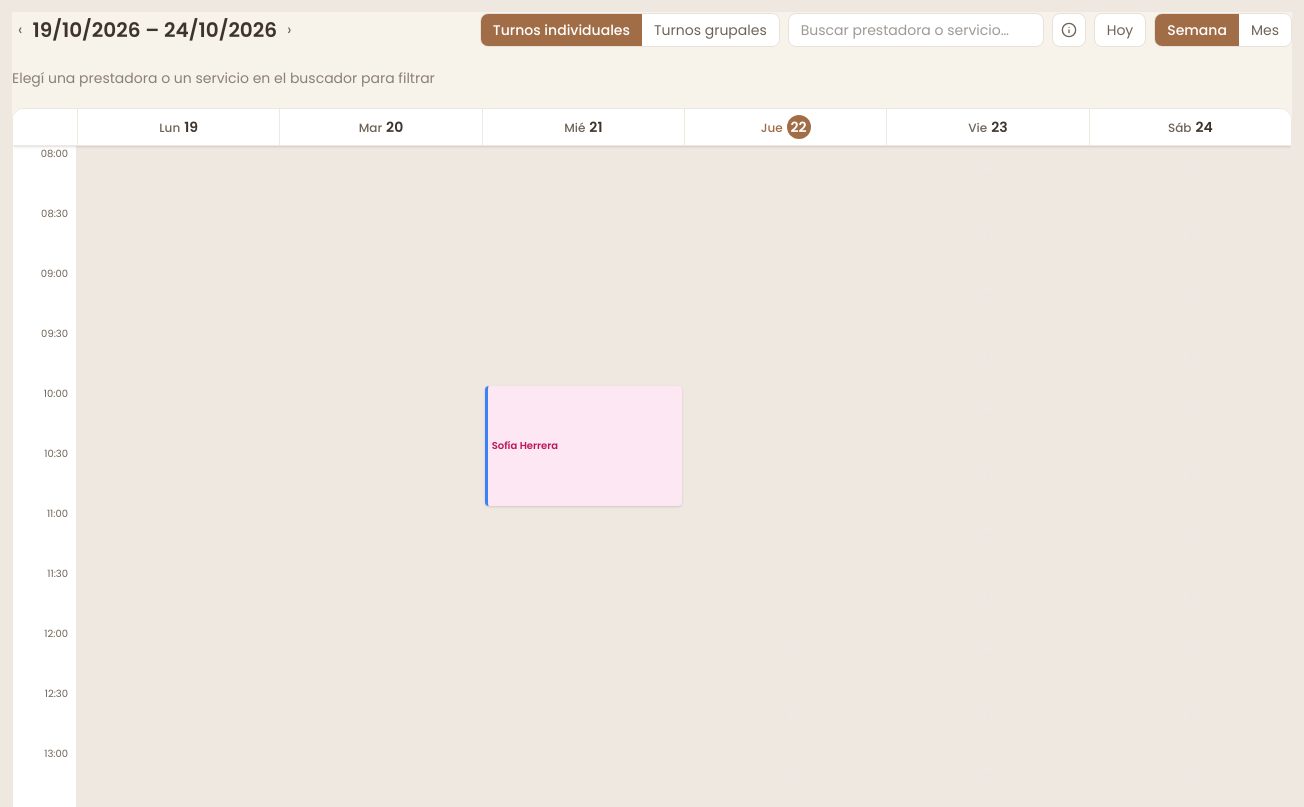
Scenario: WeekViewPage — pastillas finas › al pasar el mouse muestra la ficha con prestadora, clienta y servicio
The image size is (1304, 807).
Hover over the button "Sofía Herrera": x=583, y=446 [485,386,682,506]
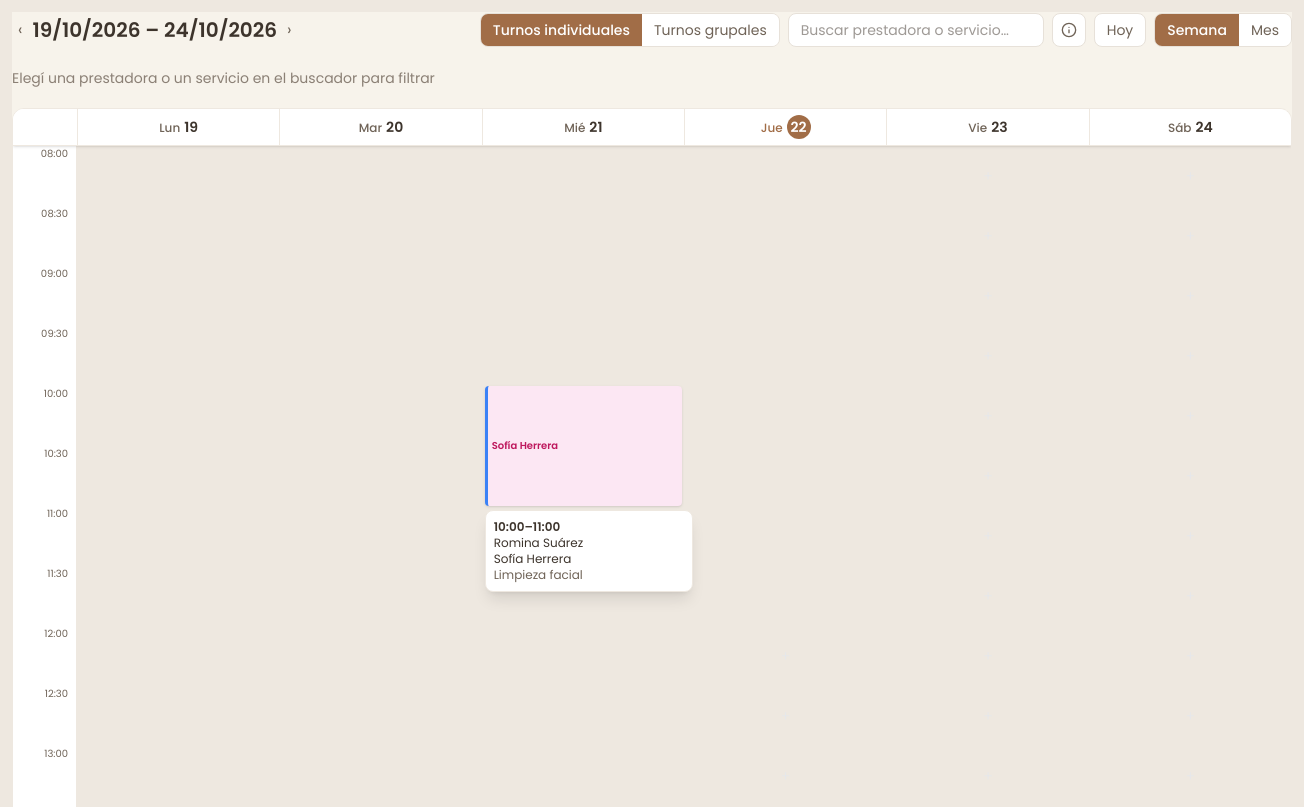
expect the tooltip shows "Romina Suárez": met, box [494,534,583,551]
expect the tooltip shows "Sofía Herrera": met, box [494,550,571,567]
expect the tooltip shows "Limpieza facial": met, box [494,566,583,583]
